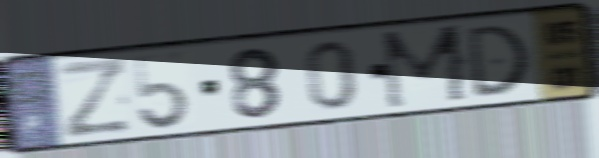0: (301, 37, 364, 115)
5: (130, 47, 193, 134)
8: (226, 44, 285, 122)
D: (463, 21, 533, 101)
M: (378, 21, 472, 114)
Z: (56, 55, 134, 143)
